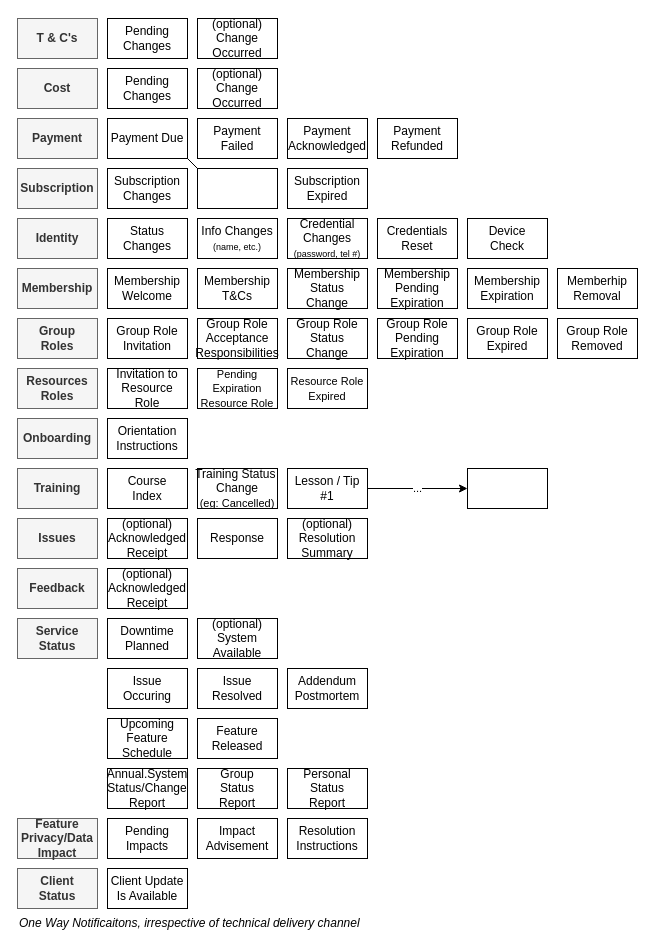
This 655x948 diagram has some shape labels left out. Each missing label, with the box of its shape:
Lesson / Tip #n: (466, 468, 548, 508)
Subscription Pending Expiration: (196, 168, 278, 208)
